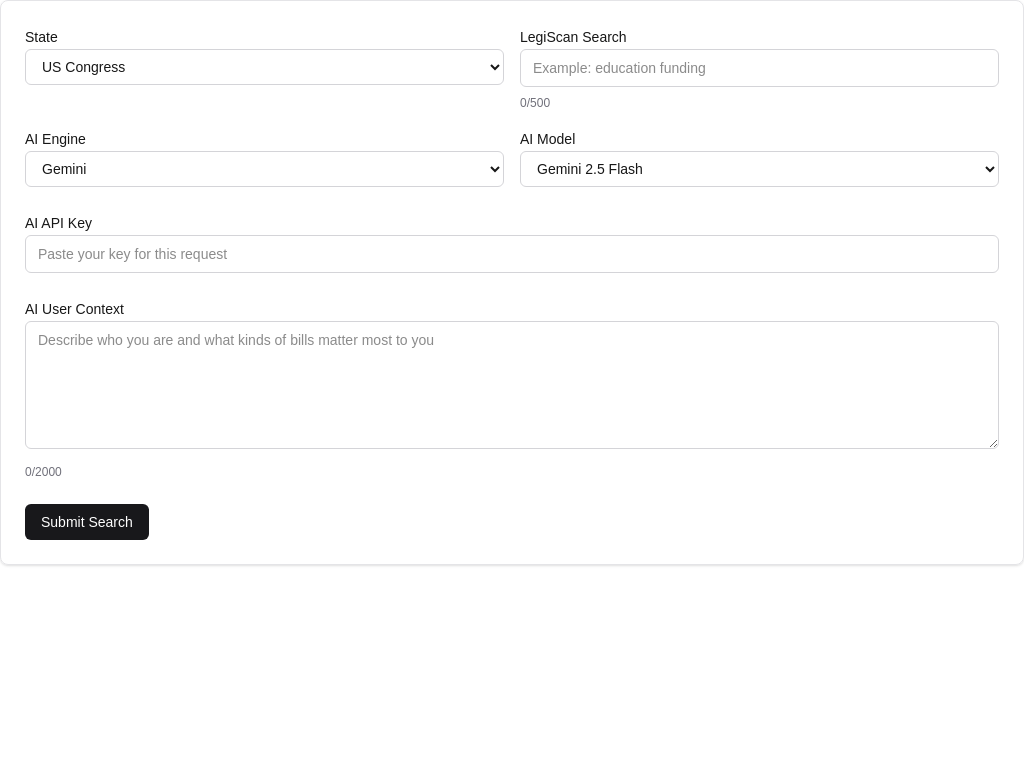
it: SearchForm › switches model options when the AI provider changes
Check: the dropdown labelled "AI Model" shows "Gemini 2.5 Flash", box 520,151 -> 999,187
Select "Claude" in the dropdown labelled "AI Engine" at (264, 169), box 25,151 -> 504,187
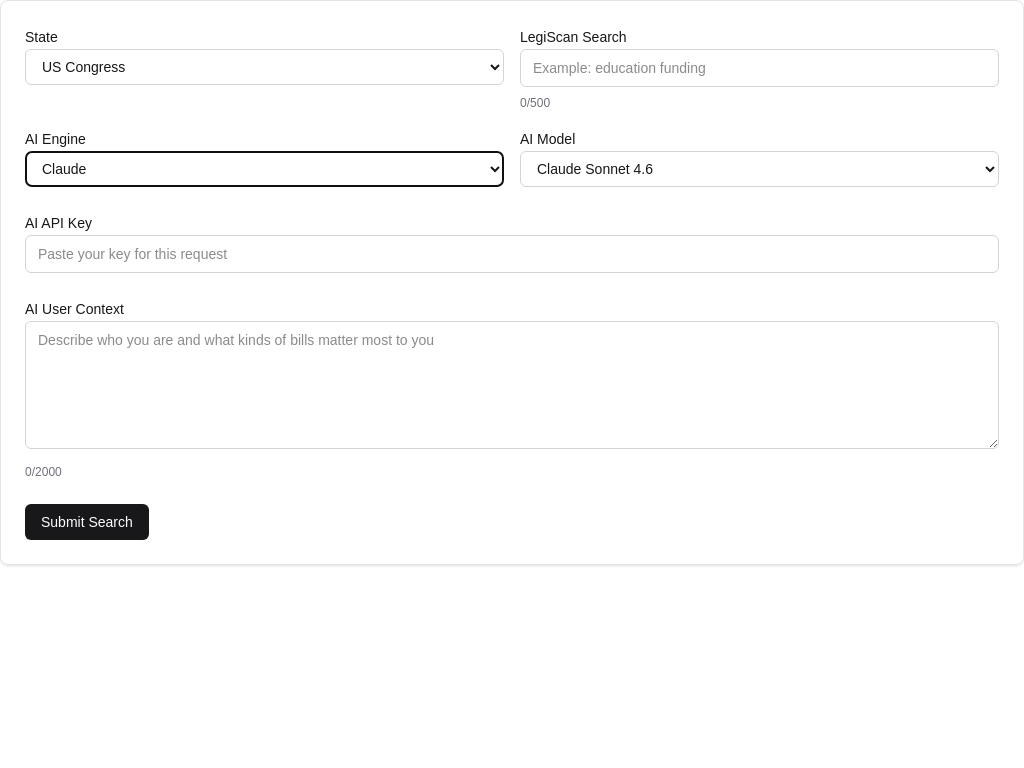
Check: the dropdown labelled "AI Model" shows "Claude Sonnet 4.6", box 520,151 -> 999,187
